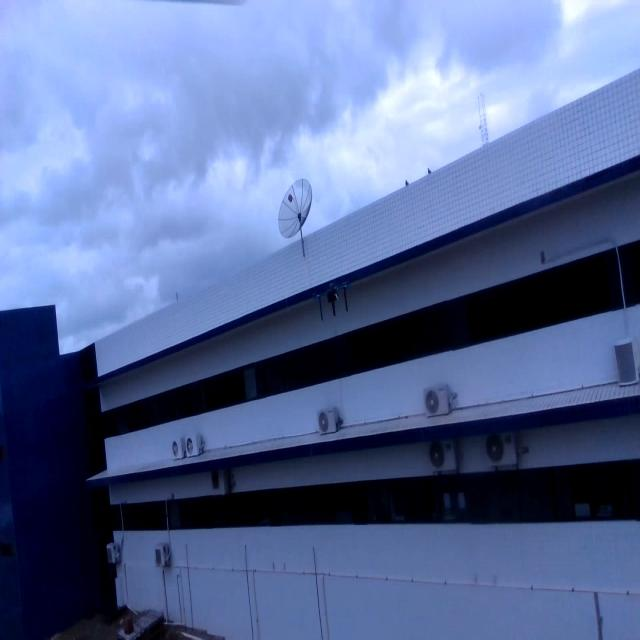-uav-: (305, 270, 357, 329)
